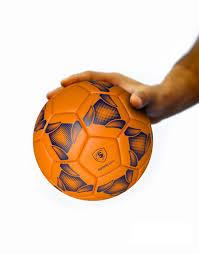ballon_handball: (33, 79, 153, 201)
